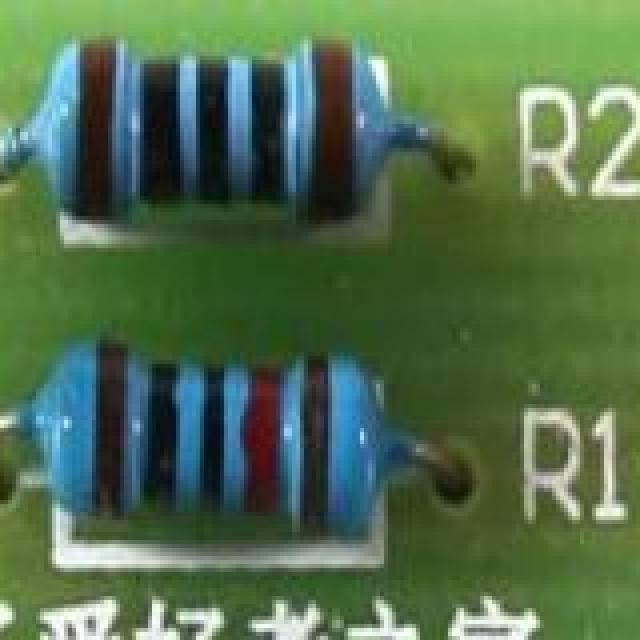resistor: (12, 312, 428, 538), (16, 40, 404, 244)
